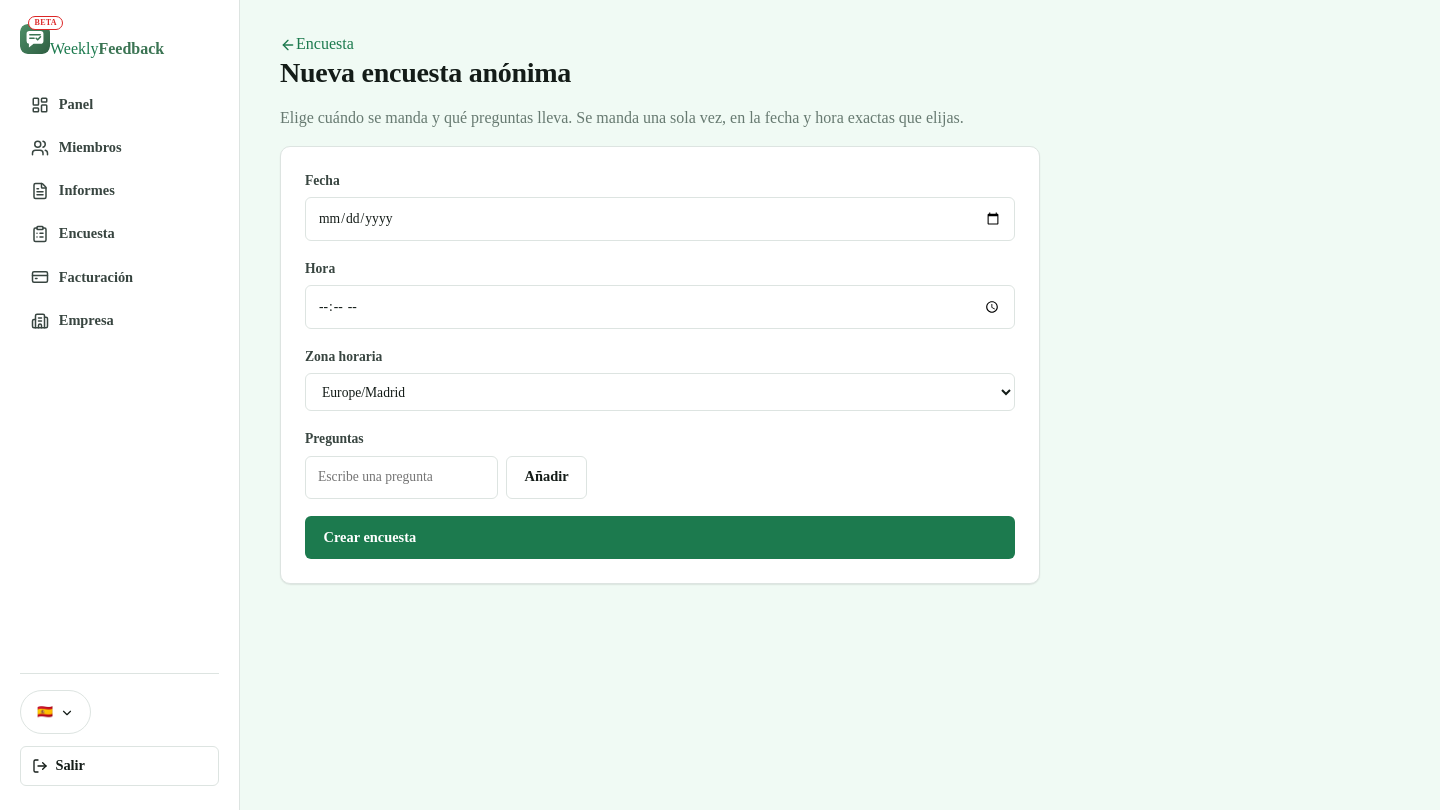
NewSurveyPage › fallo real del backend (p. ej. ya hay una pendiente): muestra el mensaje real, no navega
The image size is (1440, 810).
Type "2099-01-01" into the date field labelled "Fecha" at [660, 219], box [305,197,1015,241]
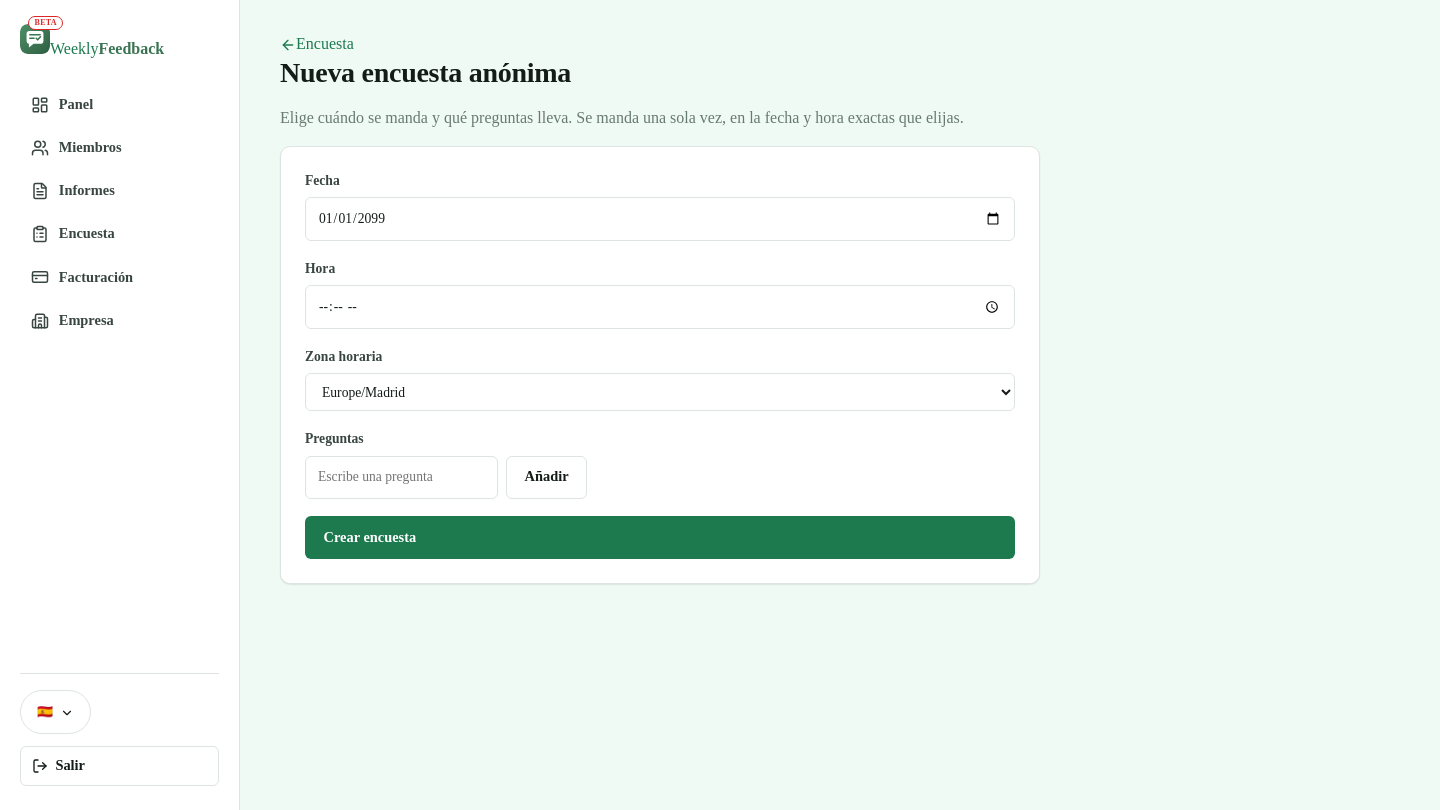
Type "10:00" into the time field labelled "Hora" at [660, 307], box [305,285,1015,329]
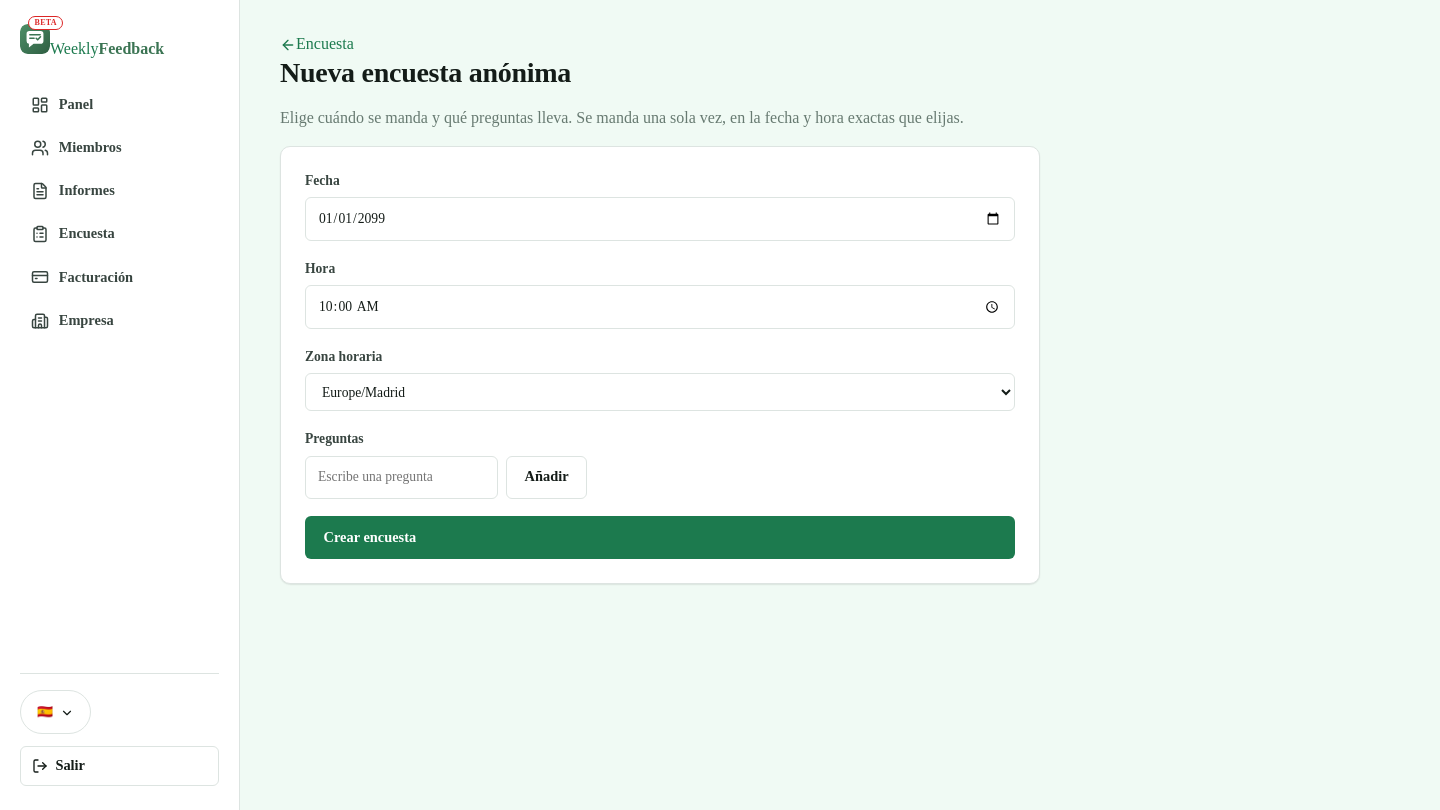
Type "¿Qué tal?" into the field with placeholder "Escribe una pregunta" at [402, 477], box [305,456,498,499]
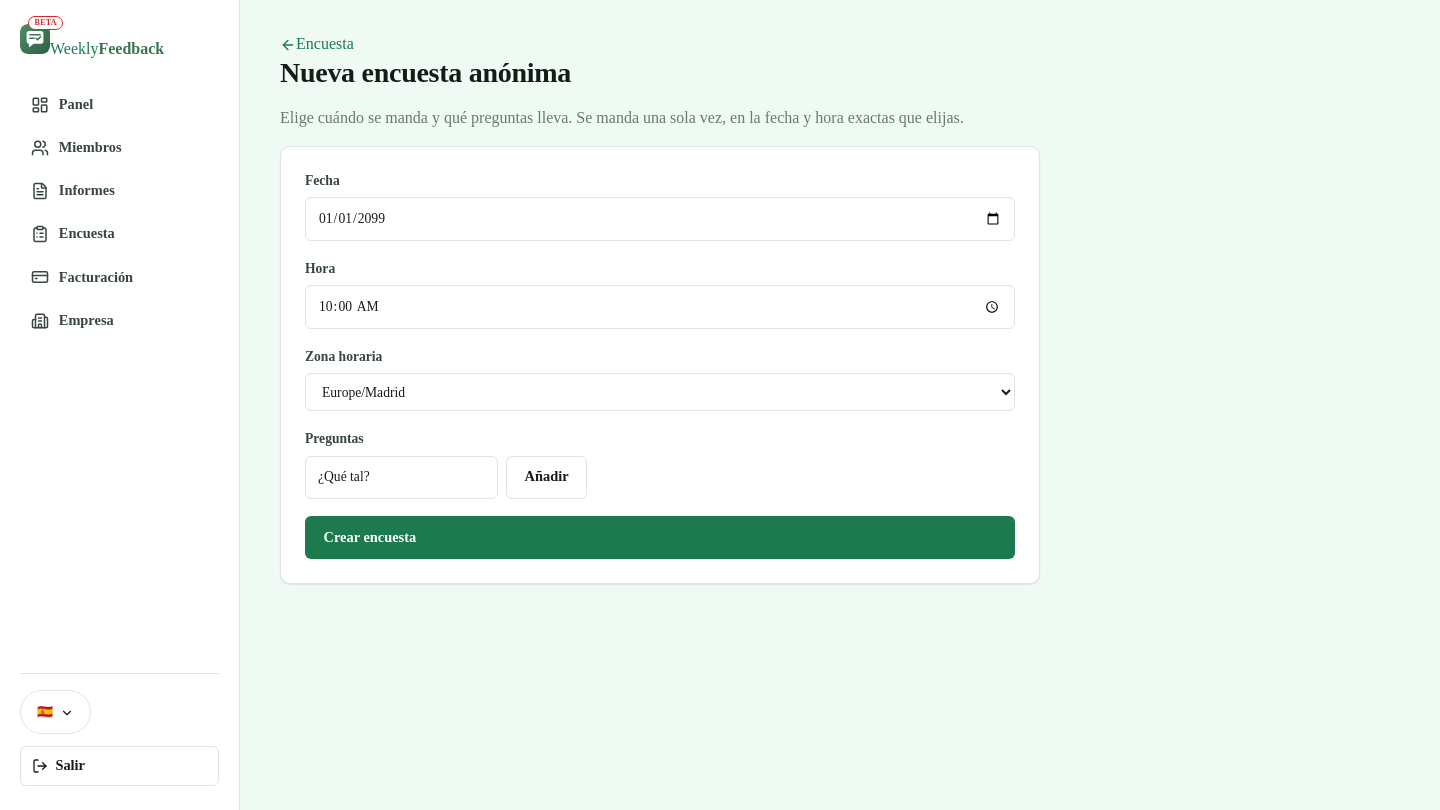
Click the button "Añadir" at [547, 477], box [506,456,587,499]
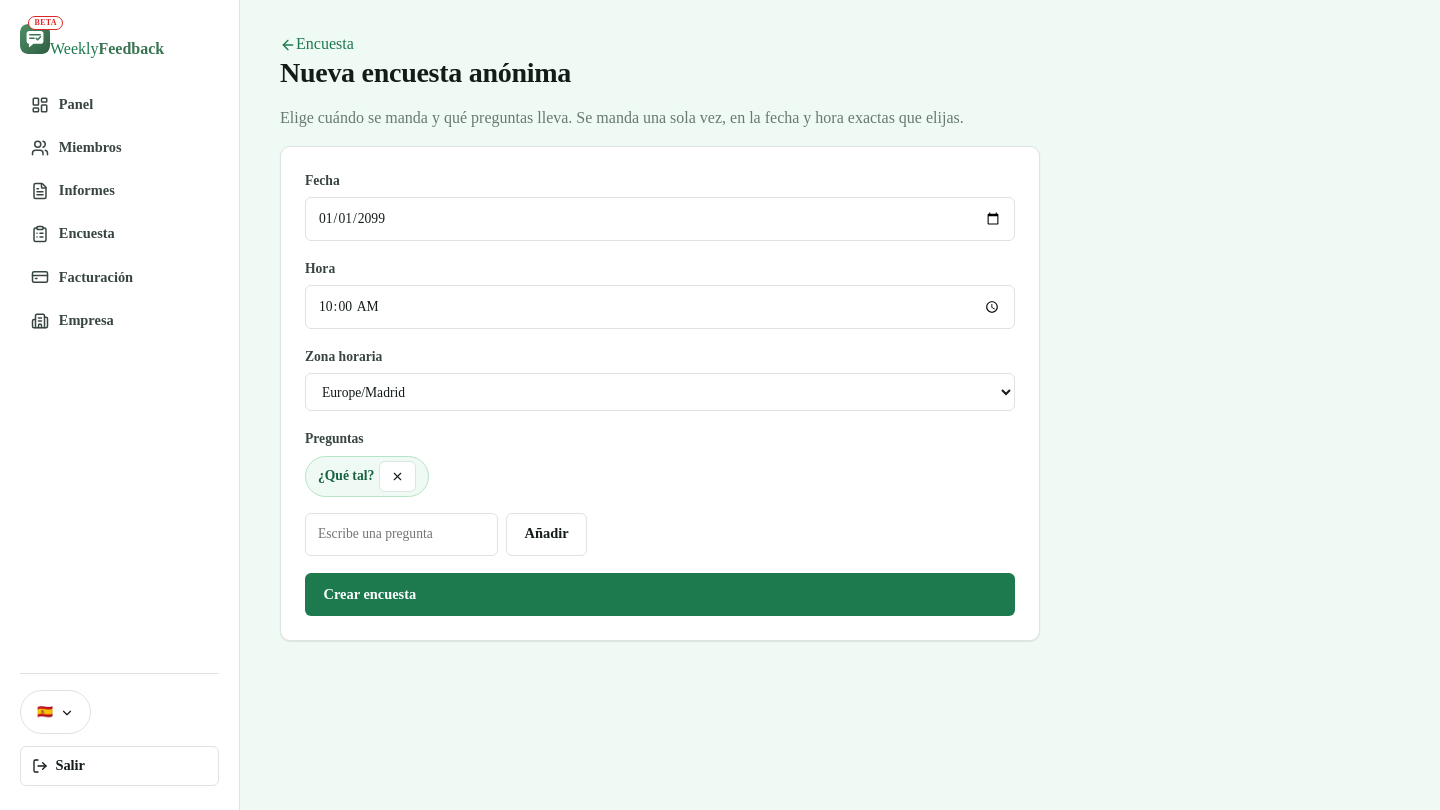
Click the button "Crear encuesta" at [370, 594], box [305,573,1015,616]
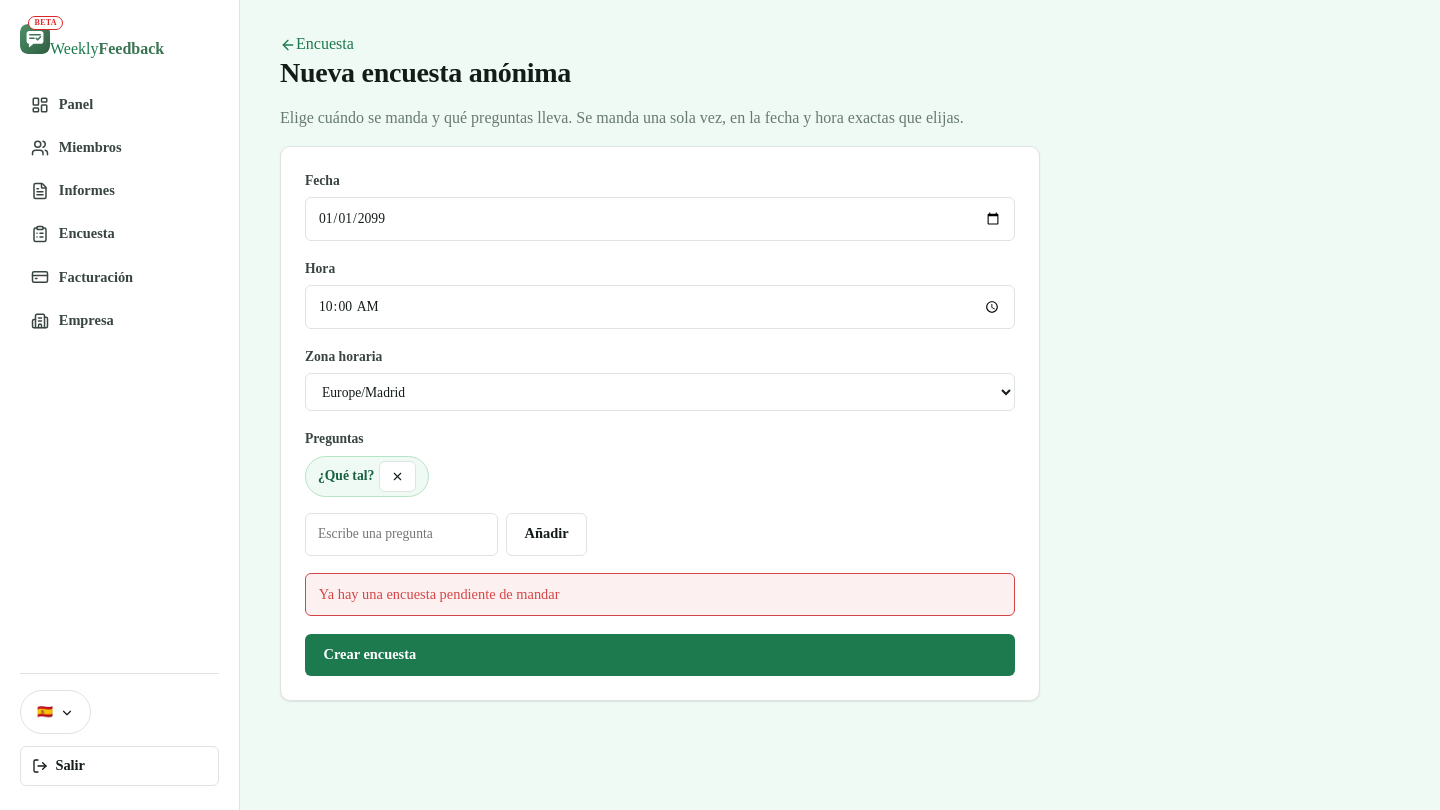
Expected: the message reads "Ya hay una encuesta pendiente de mandar", [319,586,560,602]
